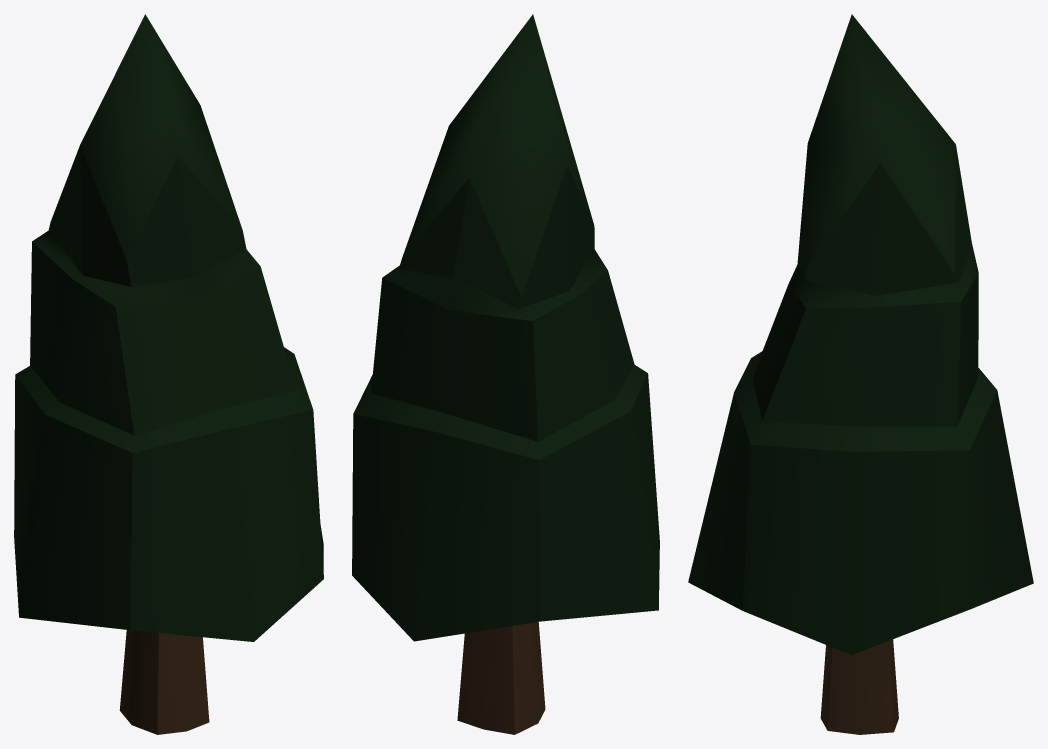
File: drvo1.fbx
The picture shows the model from 3 angles, left to right: view 1: azimuth 30°, elevation 25°; view 2: azimuth 150°, elevation 25°; view 3: azimuth 270°, elevation 25°; orthographic projection. The views are drawn at different scales.
Visible parts, largest first — view 1: pCube2; view 2: pCube2; view 3: pCube2.
Part boxes in pixels (x1=…): pCube2: x1=14, y1=14, x2=323, y2=734; pCube2: x1=352, y1=14, x2=659, y2=734; pCube2: x1=688, y1=14, x2=1033, y2=734.
Bounding box in the file's own units: 0.016 × 0.0358 × 0.0162.
